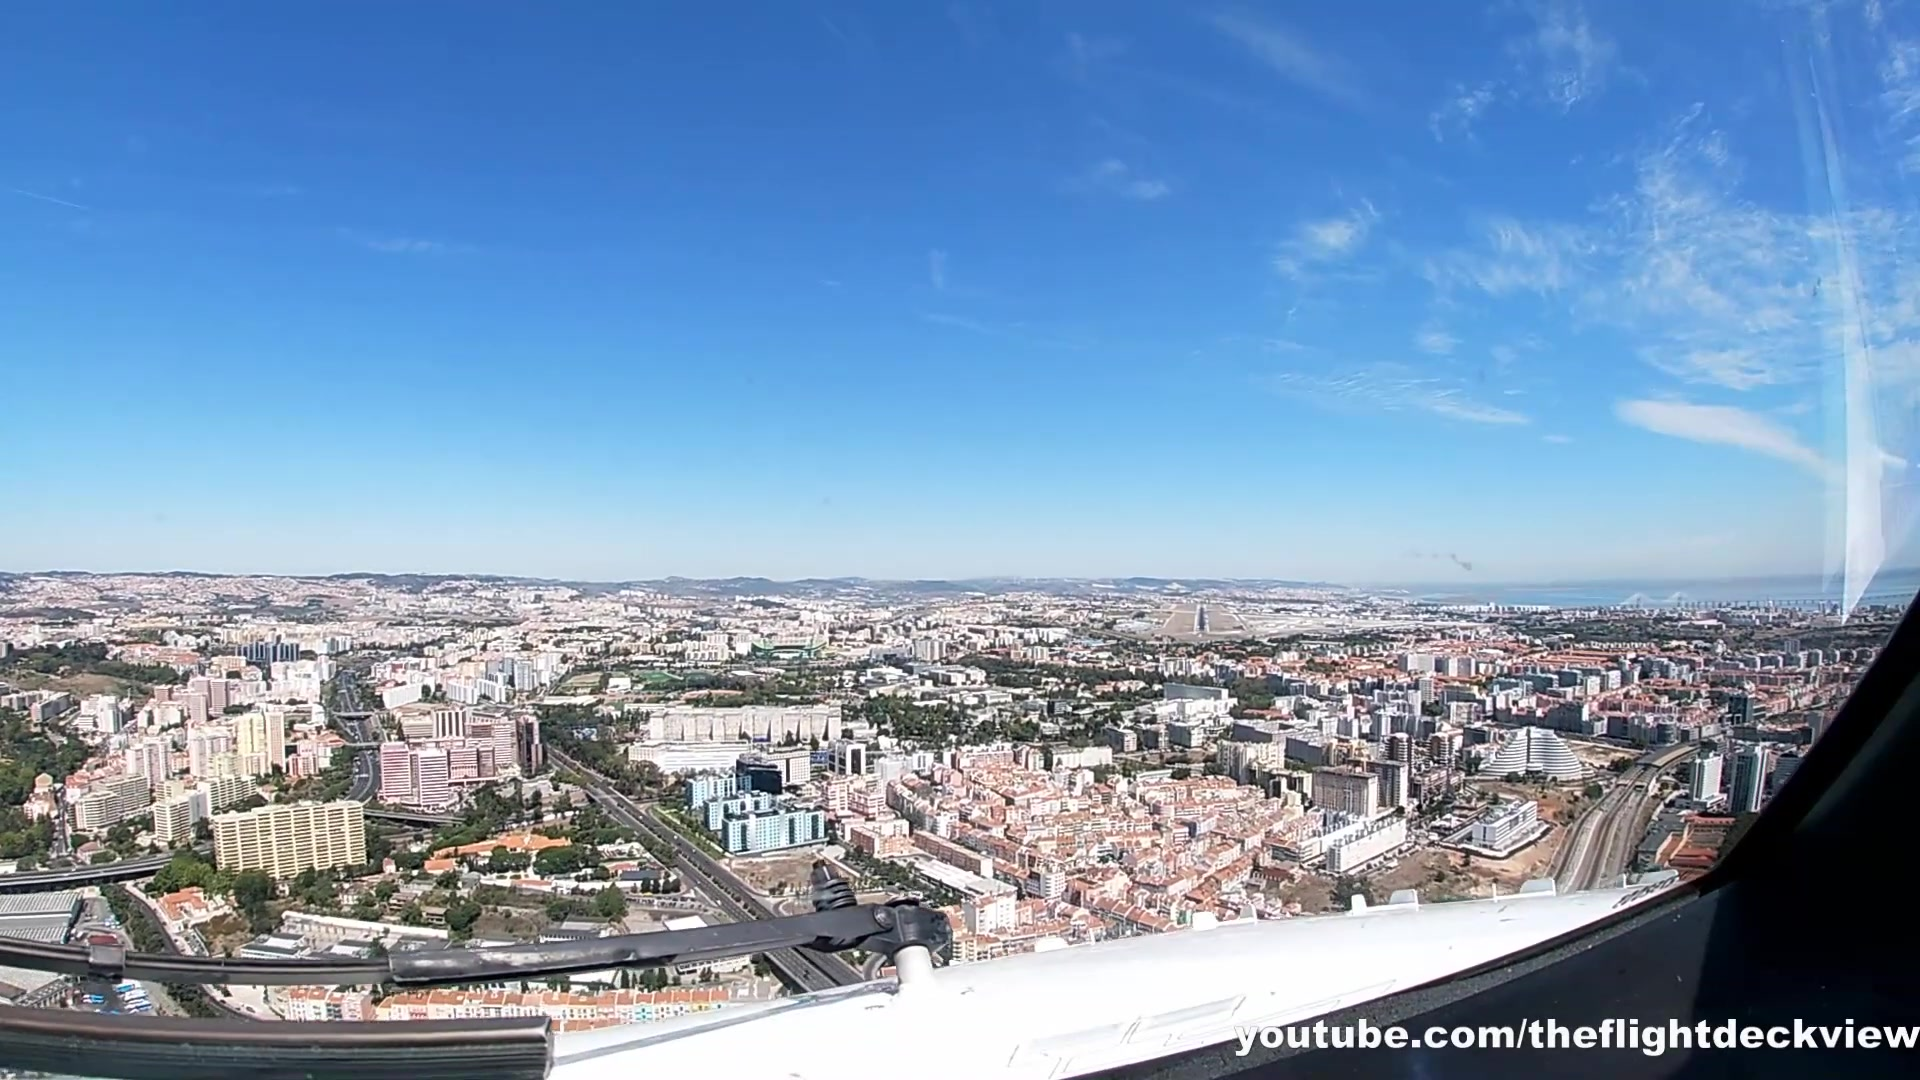runway: (1192, 603, 1213, 634)
